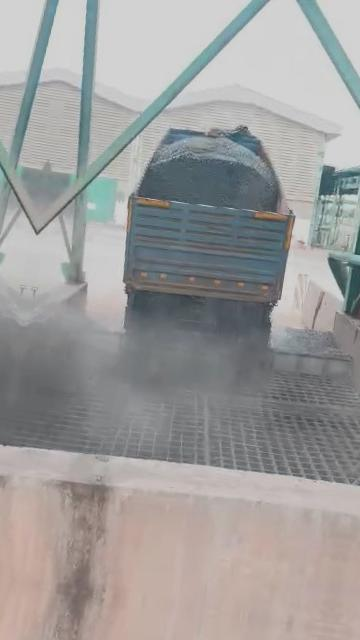gravel: (137, 136, 281, 211), (125, 291, 273, 347), (271, 328, 344, 356)
